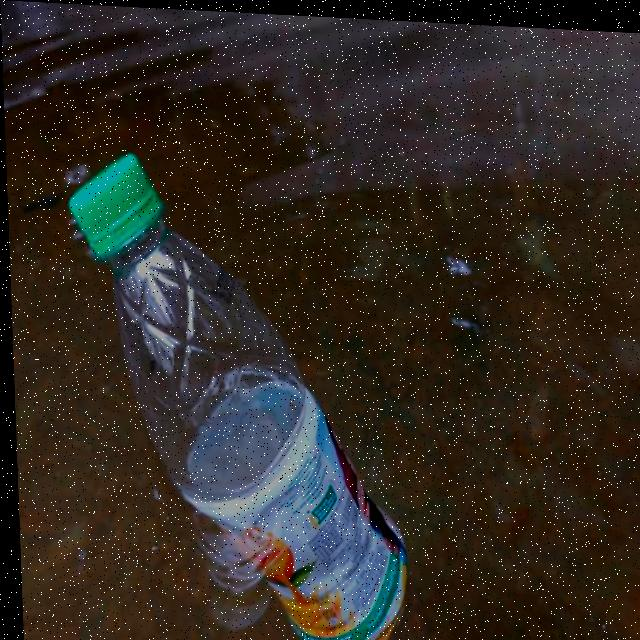leaf: (535, 629, 640, 640)
waterbottle: (55, 143, 419, 640)
